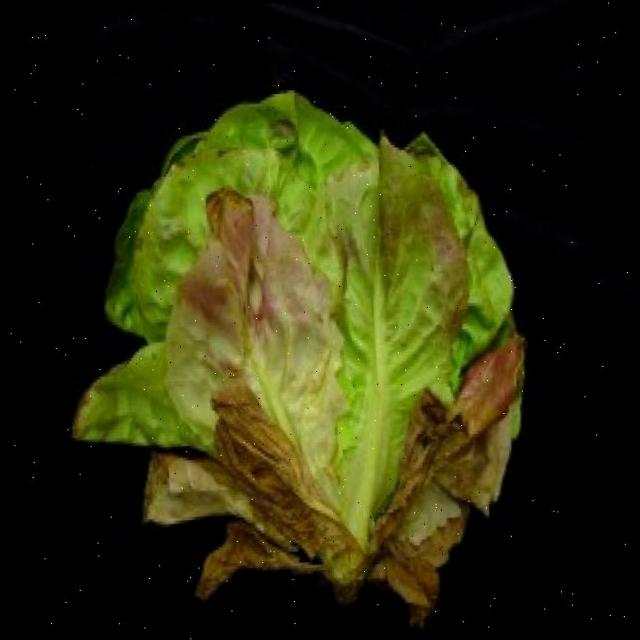Downy_mildew_on_lettuce: (98, 79, 542, 624)
